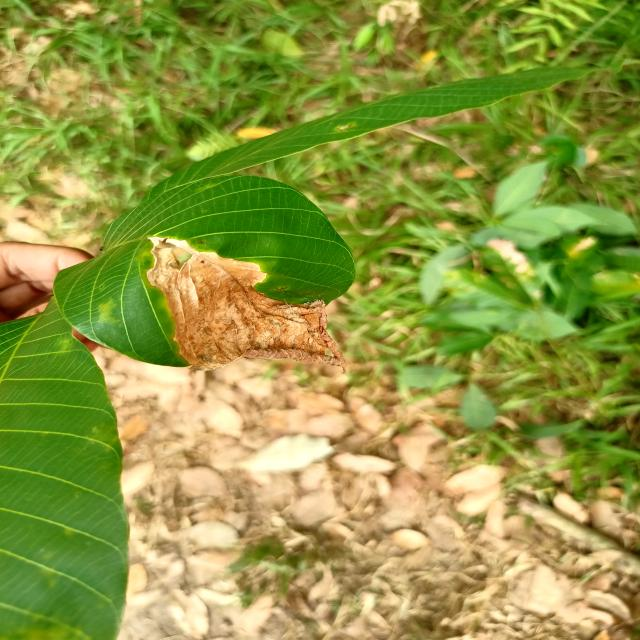Colletotrichum: (201, 260, 205, 264), (101, 286, 103, 288)
Corynespora: (272, 286, 289, 291), (197, 238, 207, 245)
Leaf-Blight: (147, 237, 347, 373)
